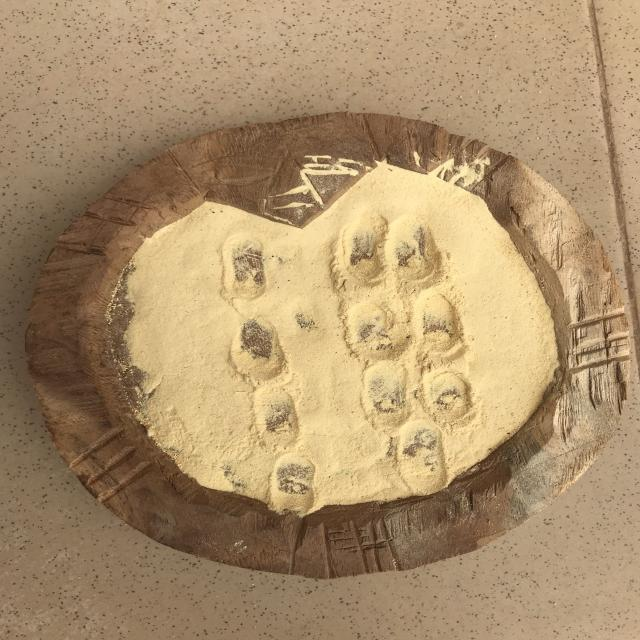double: (338, 294, 474, 364), (354, 362, 478, 432), (338, 216, 445, 293)
single: (228, 316, 293, 385), (219, 233, 277, 306), (390, 422, 450, 489), (246, 384, 304, 448), (268, 452, 320, 510)
